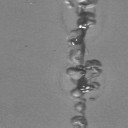slag inclusion: (66, 0, 104, 126), (88, 98, 96, 101)
